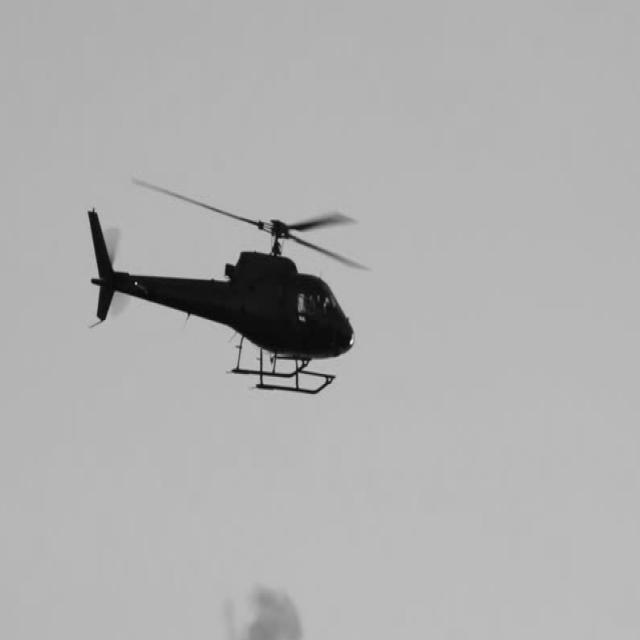helicopter: (73, 170, 369, 408)
